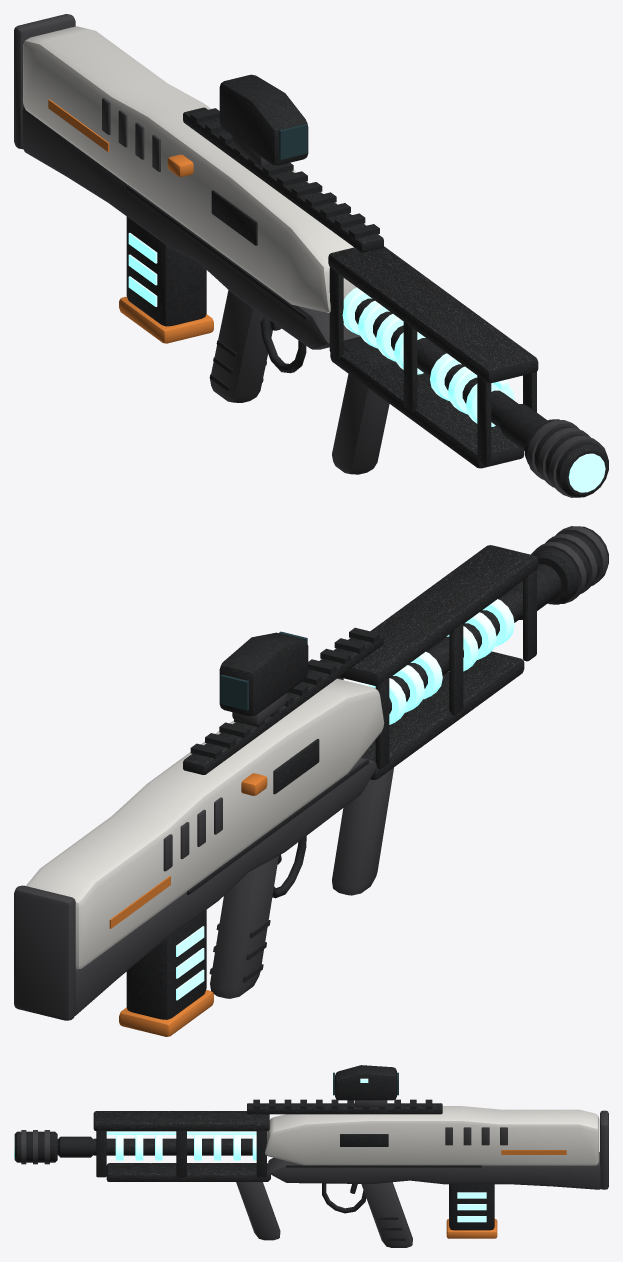
The model's file is pulse_rifle.glb.
The picture shows the model from 3 angles, top to bottom: view 1: azimuth 30°, elevation 25°; view 2: azimuth 150°, elevation 25°; view 3: azimuth 270°, elevation 25°; orthographic projection. The views are drawn at different scales.
Parts seen in each view (by area): view 1: pulse_rifle, Mag; view 2: pulse_rifle, Mag; view 3: pulse_rifle, Mag.
Boxes of the visible parts, x1,y1,x2,y2 form: pulse_rifle: (14,14,608,497); Mag: (119,216,213,343); pulse_rifle: (14,526,608,1020); Mag: (119,910,213,1036); pulse_rifle: (14,1065,608,1247); Mag: (446,1184,497,1238).
Size of the model in its own units: 0.074 by 0.301 by 0.912.
Materials: 6 (1 with a texture image).
